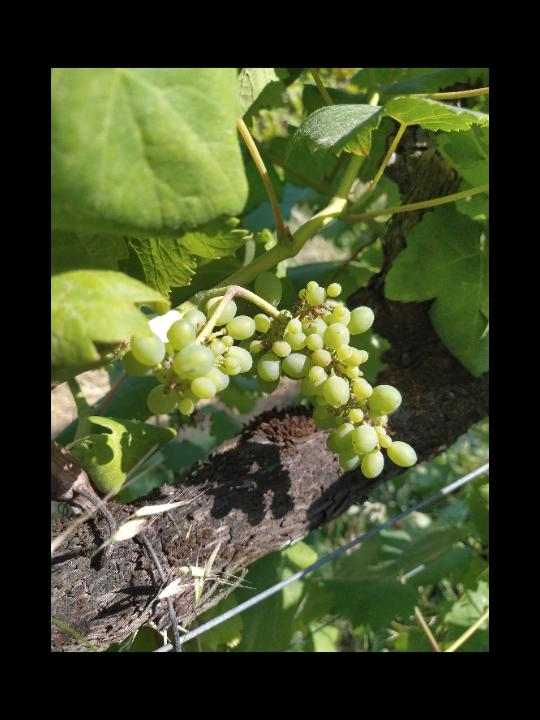grape: (117, 270, 422, 481)
